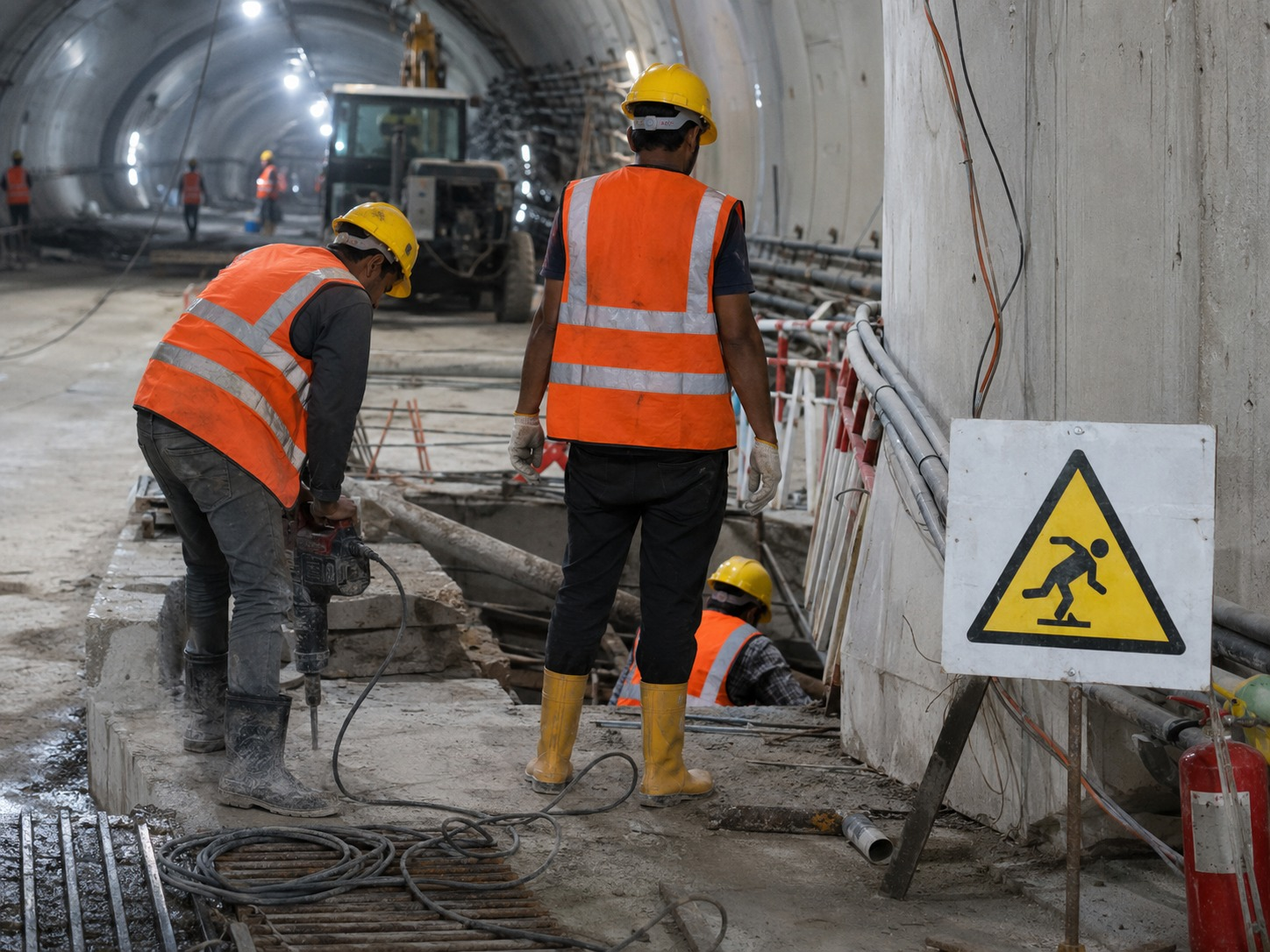helmet: (224, 320, 303, 377), (601, 289, 681, 344)
person: (145, 355, 346, 671), (548, 307, 706, 649)
vest: (136, 373, 338, 530)
warning_sign: (934, 430, 1131, 592)
